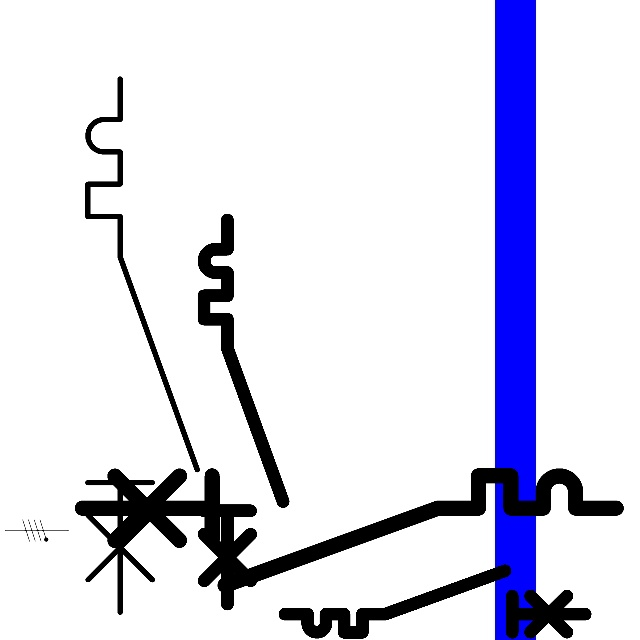interruptor_termomagnetico: (74, 65, 211, 626), (68, 462, 629, 599), (194, 210, 293, 614), (277, 563, 593, 640)
